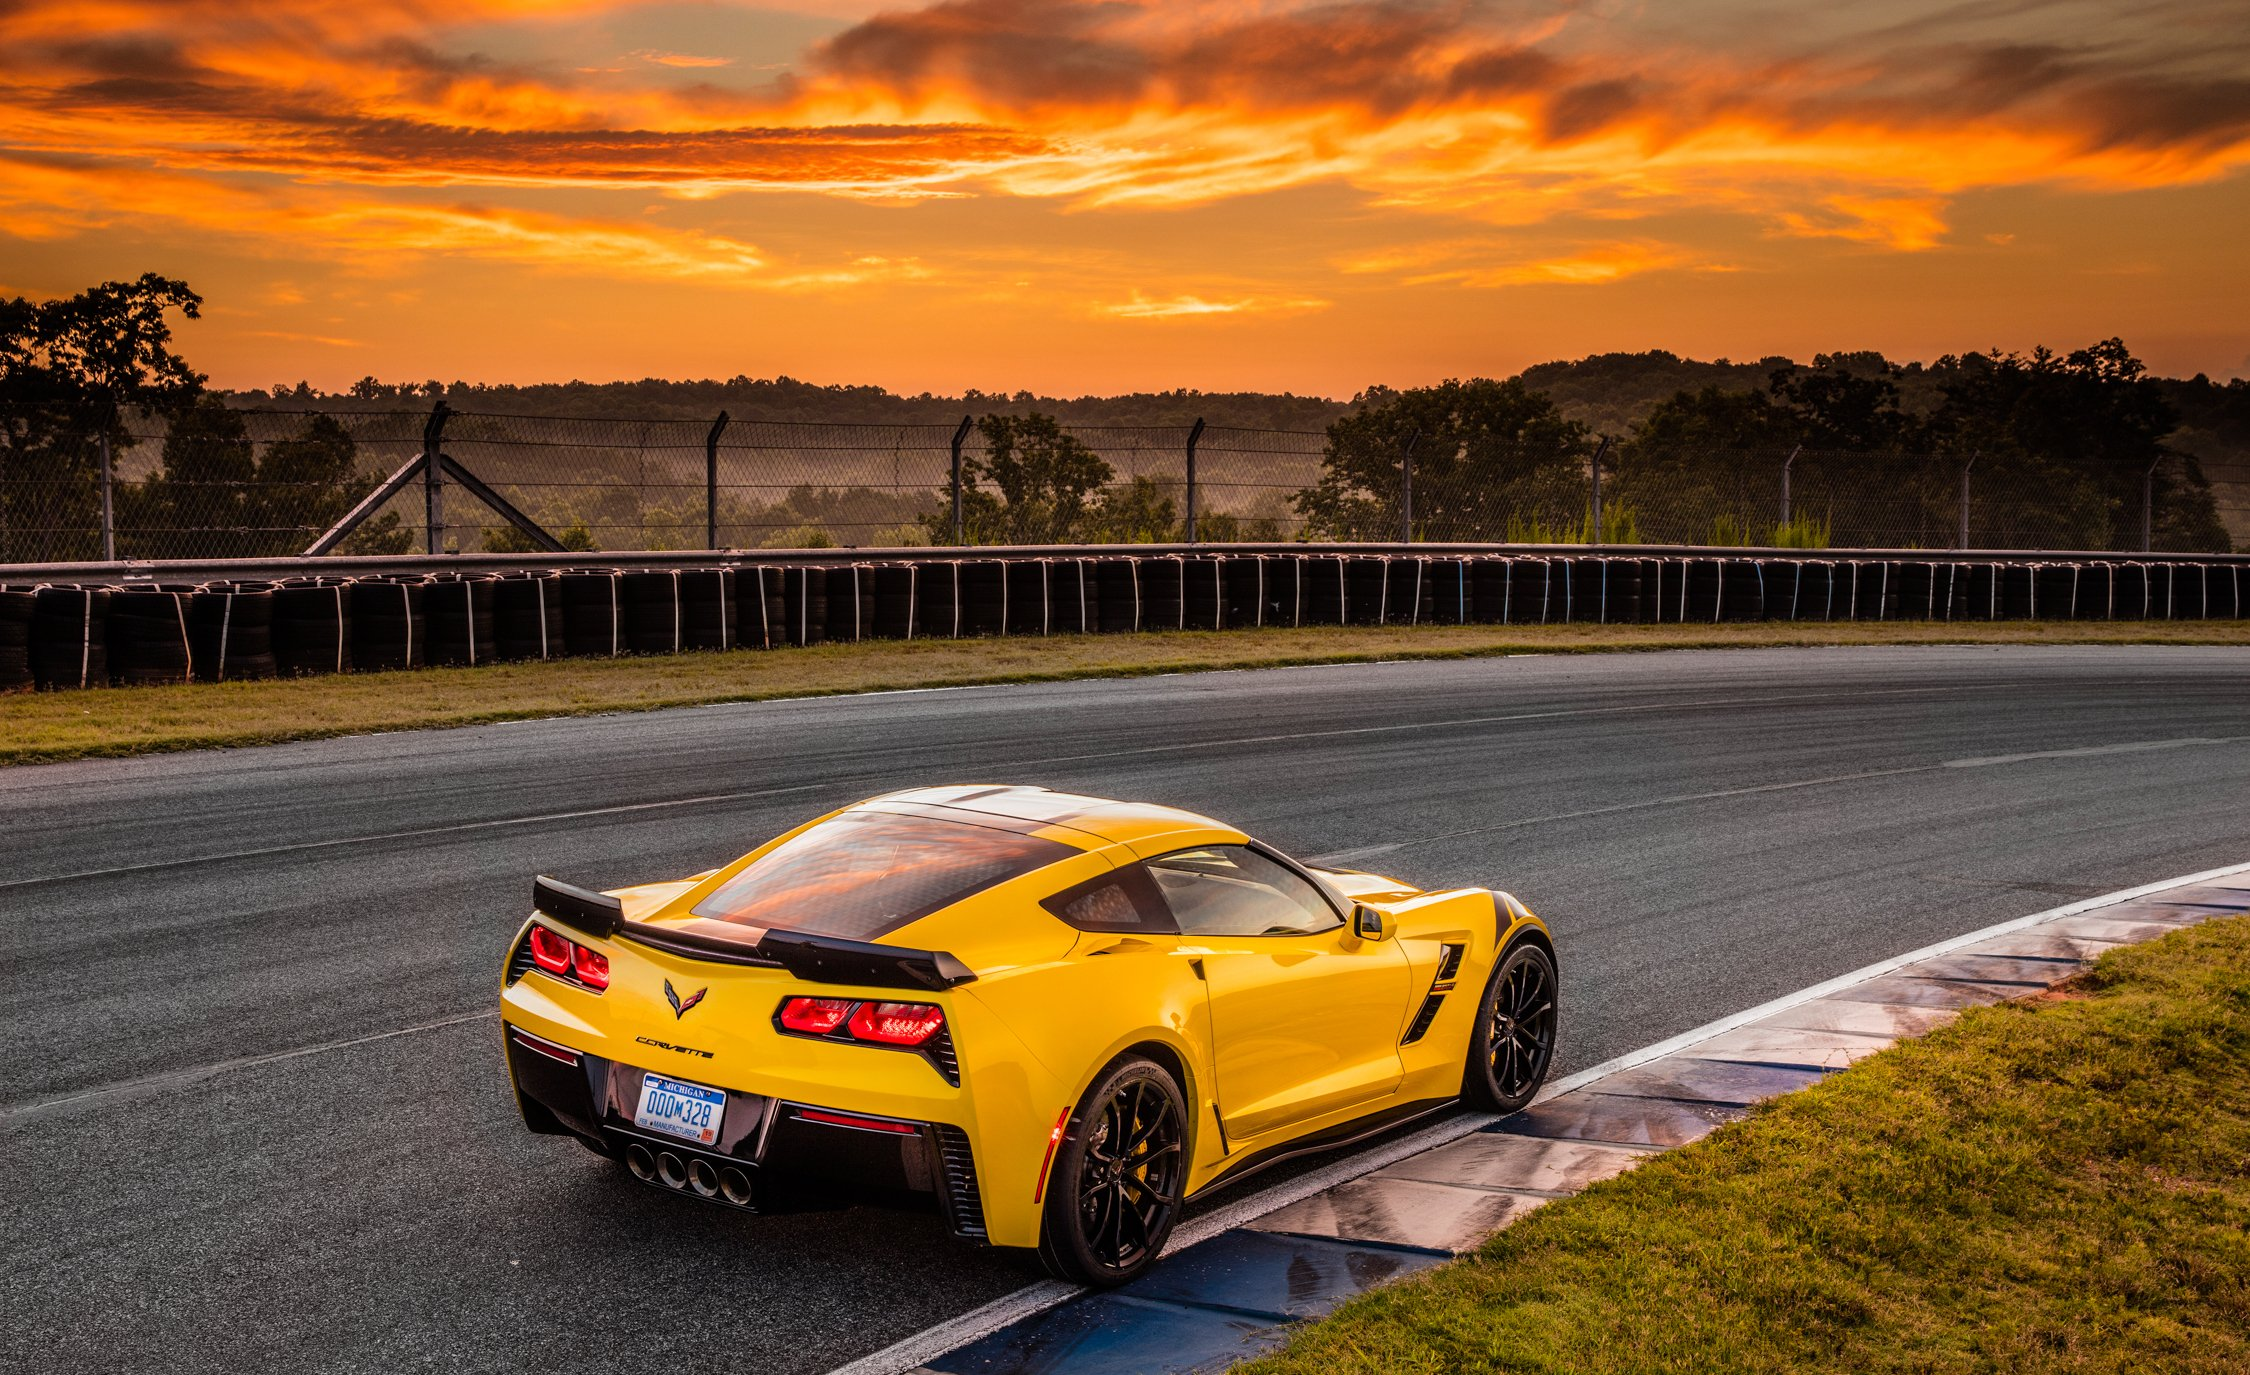headlight: (757, 970, 969, 1075), (503, 911, 625, 998)
wheel: (1032, 1051, 1212, 1296), (1479, 933, 1569, 1115)
